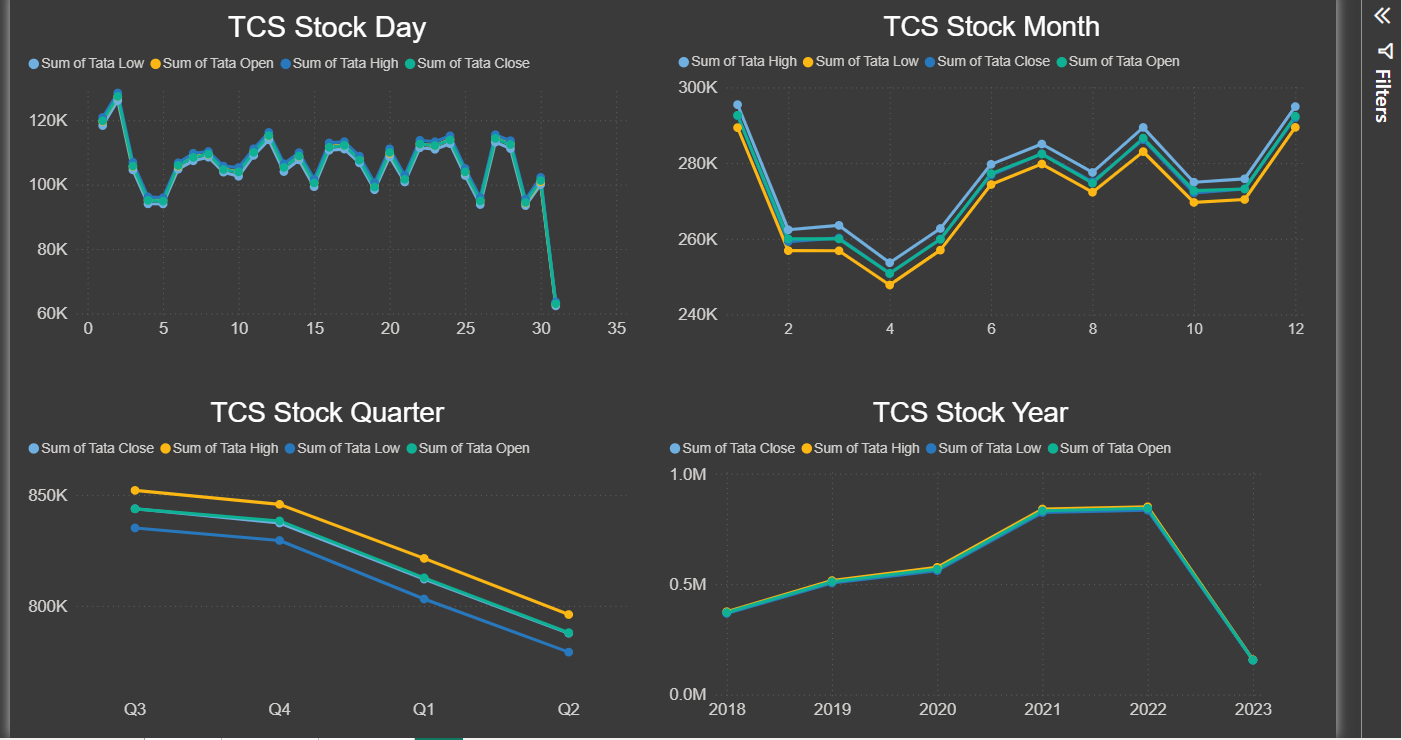

This screenshot's page, from the dashboard's own definition file:
{"tool":"powerbi","page":{"name":"Page 2","canvas":[1280,720],"ordinal":1},"visuals":[{"type":"lineChart","title":"TCS Stock Day","fields":{"Category":["TCS NS (1).Day"],"Y":["Sum(TCS NS (1).Tata Low)","Sum(TCS NS (1).Tata Open)","Sum(TCS NS (1).Tata High)","Sum(TCS NS (1).Tata Close)"]},"box":[12.2,18.3,588.2,324.1],"z":0},{"type":"lineChart","title":"TCS Stock  Month","fields":{"Category":["TCS NS (1).Month"],"Y":["Sum(TCS NS (1).Tata High)","Sum(TCS NS (1).Tata Low)","Sum(TCS NS (1).Tata Close)","Sum(TCS NS (1).Tata Open)"]},"box":[639.5,18.3,616.3,324.1],"z":1000},{"type":"lineChart","title":"TCS Stock Quarter","fields":{"Category":["TCS NS (1).Quarter"],"Y":["Sum(TCS NS (1).Tata Close)","Sum(TCS NS (1).Tata High)","Sum(TCS NS (1).Tata Low)","Sum(TCS NS (1).Tata Open)"]},"box":[12.2,391.3,588.2,319.2],"z":2000},{"type":"lineChart","title":"TCS Stock Year","fields":{"Category":["TCS NS (1).Year"],"Y":["Sum(TCS NS (1).Tata Close)","Sum(TCS NS (1).Tata High)","Sum(TCS NS (1).Tata Low)","Sum(TCS NS (1).Tata Open)"]},"box":[631,391.3,591.9,319.2],"z":3000}]}

Visuals, with their boxes on the page's 1280x720 design canvas (x1, y1, x2, y2). These are canvas units, not pixel positions in the 1402x740 screenshot, which may show the page scaled, cropped or inside an application window:
"TCS Stock Day" lineChart: (x1=12, y1=18, x2=600, y2=342)
"TCS Stock  Month" lineChart: (x1=640, y1=18, x2=1256, y2=342)
"TCS Stock Quarter" lineChart: (x1=12, y1=391, x2=600, y2=710)
"TCS Stock Year" lineChart: (x1=631, y1=391, x2=1223, y2=710)
